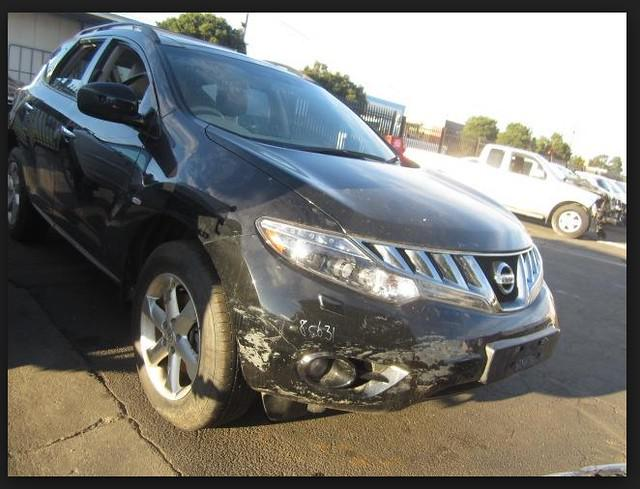front-bumper-dent: (219, 271, 484, 439)
